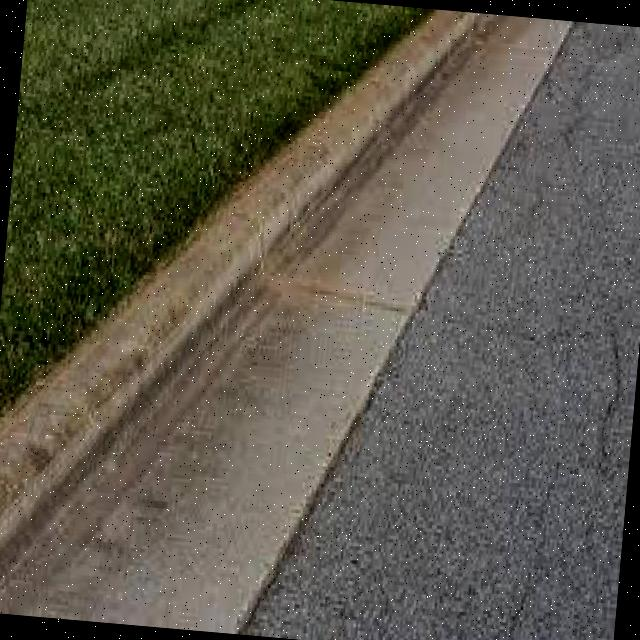curb: (1, 285, 237, 603), (276, 2, 507, 231), (150, 166, 349, 378)
